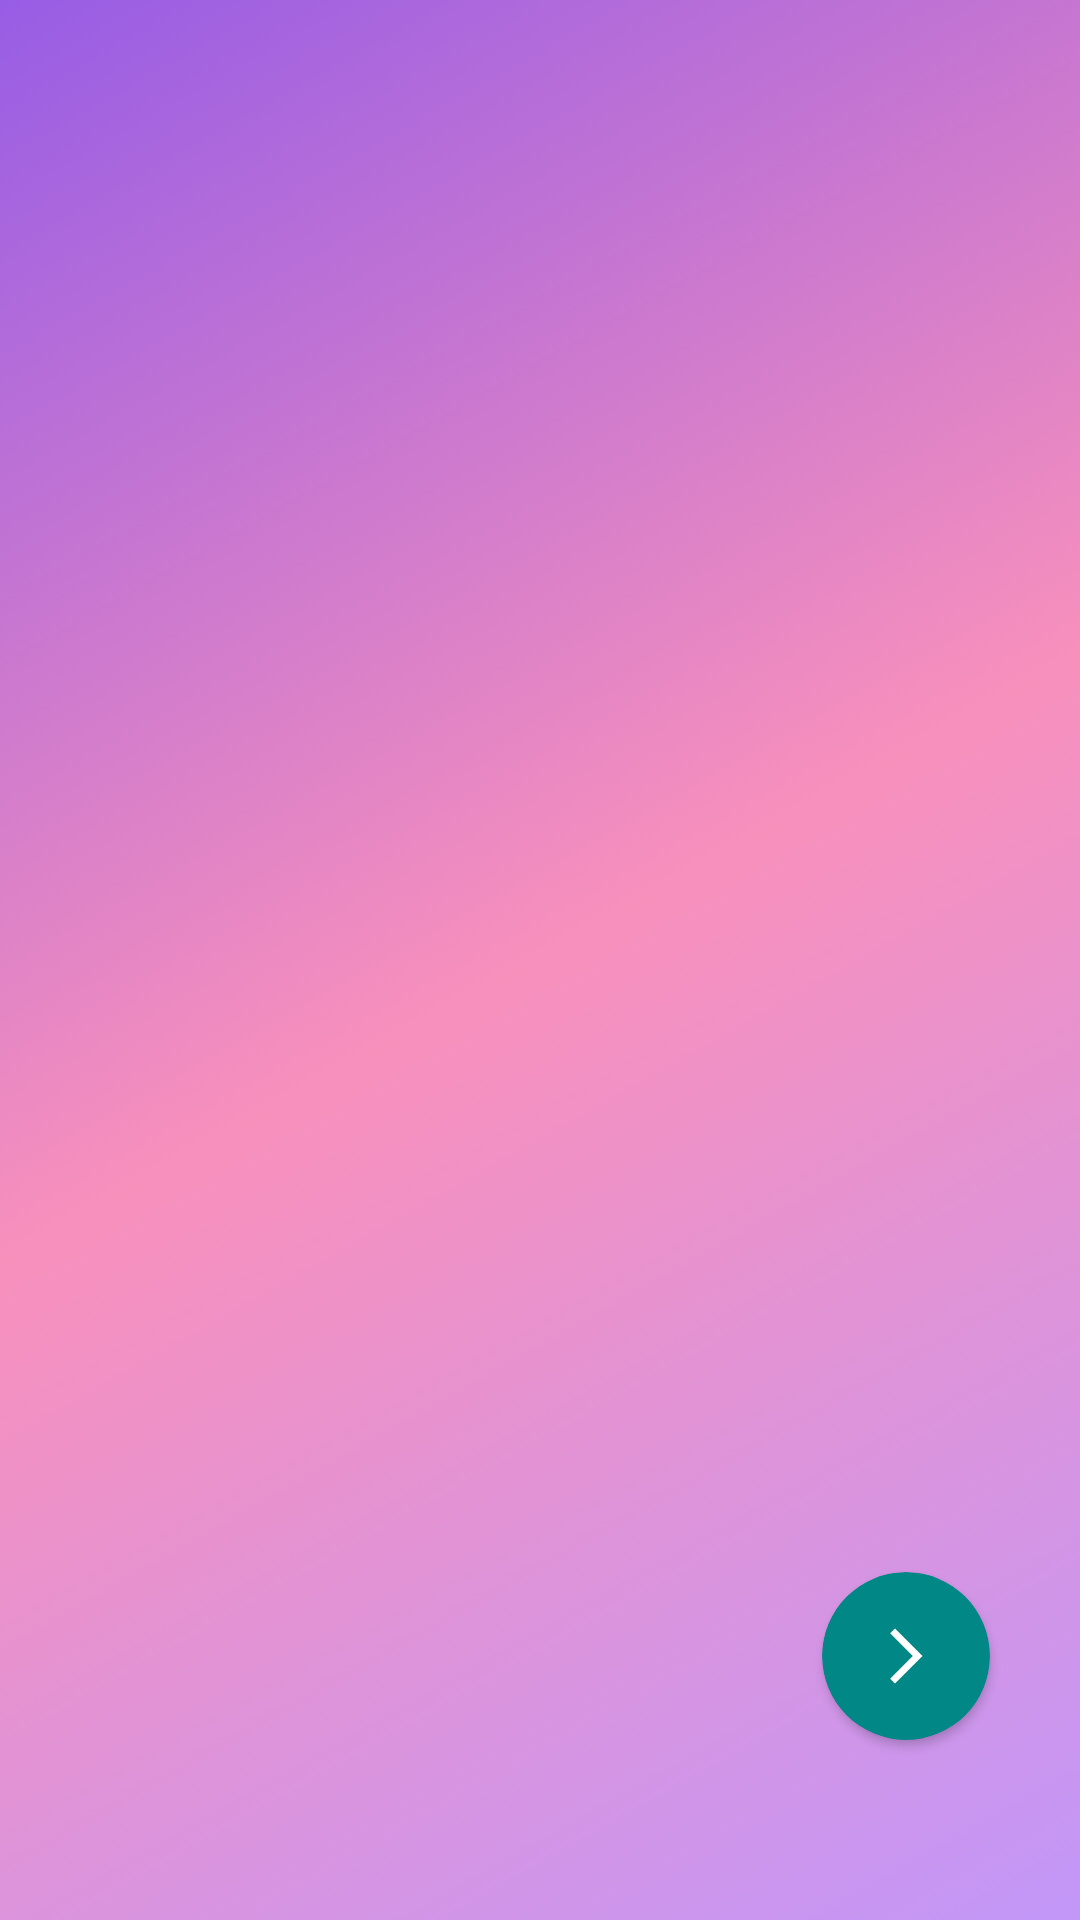

Icon bounding boxes for this 1080*1920 phone screenshot, format bbox=(x1, y1, x2, y2):
next: bbox=(890, 1628, 923, 1684)
